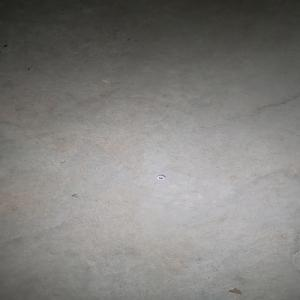Nut: (156, 174, 166, 180)
